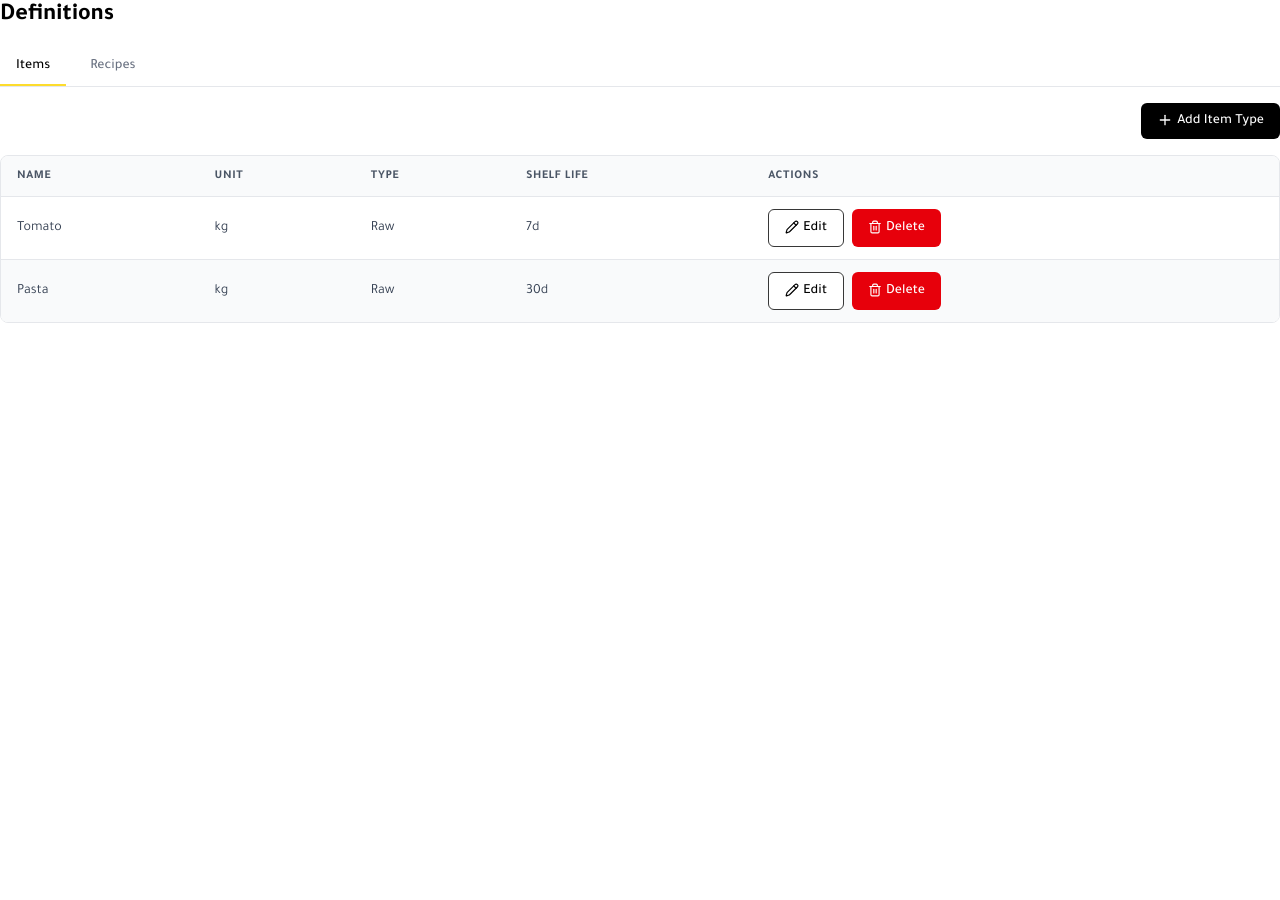
Test case: DefinitionsPage › opens the Add Item modal when clicking "Add Item Type"
Expected: the text "Tomato" is shown, [1,196,199,260]
Click the button "Add Item Type" at [1211, 121], box [1141,103,1279,139]
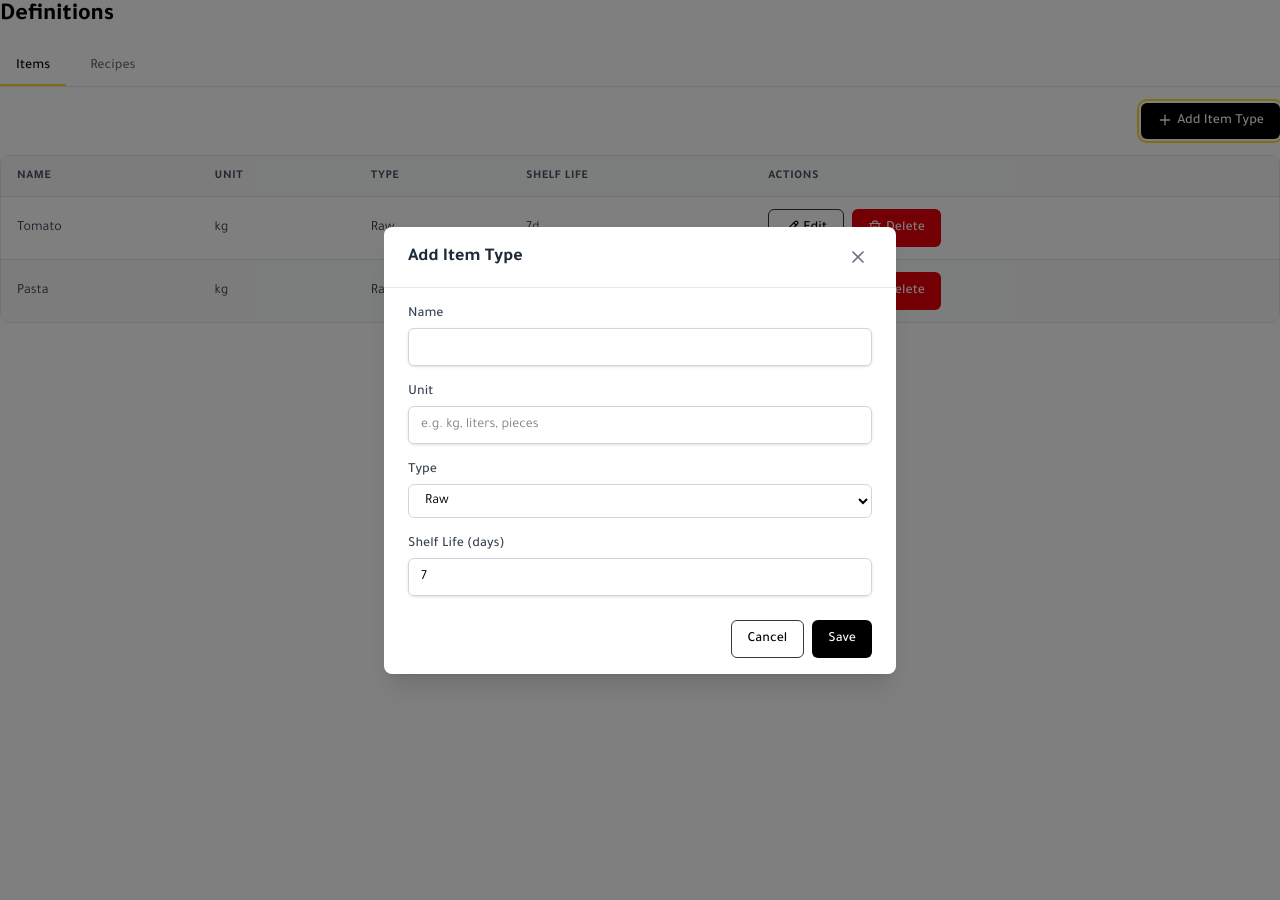
Now the field labelled "Name" is shown, box [408,328,872,366]
Now the field labelled "Unit" is shown, box [408,406,872,444]
Now the button "Save" is shown, box [812,620,872,658]
